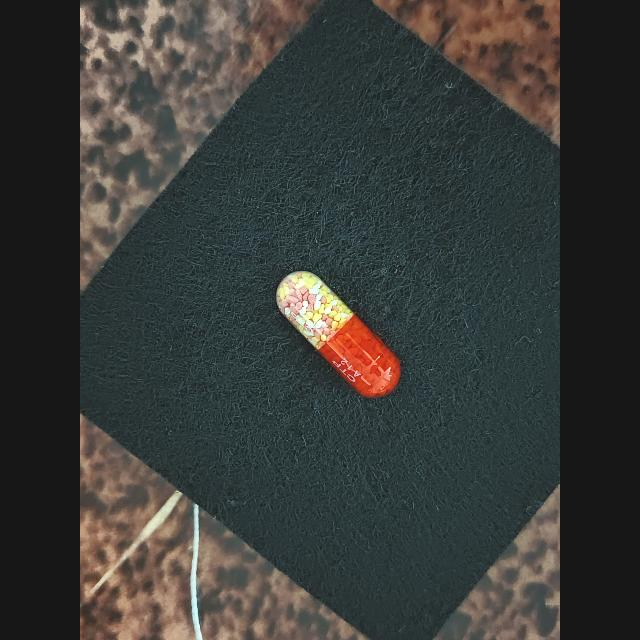Intact Capsule: (276, 271, 401, 398)
